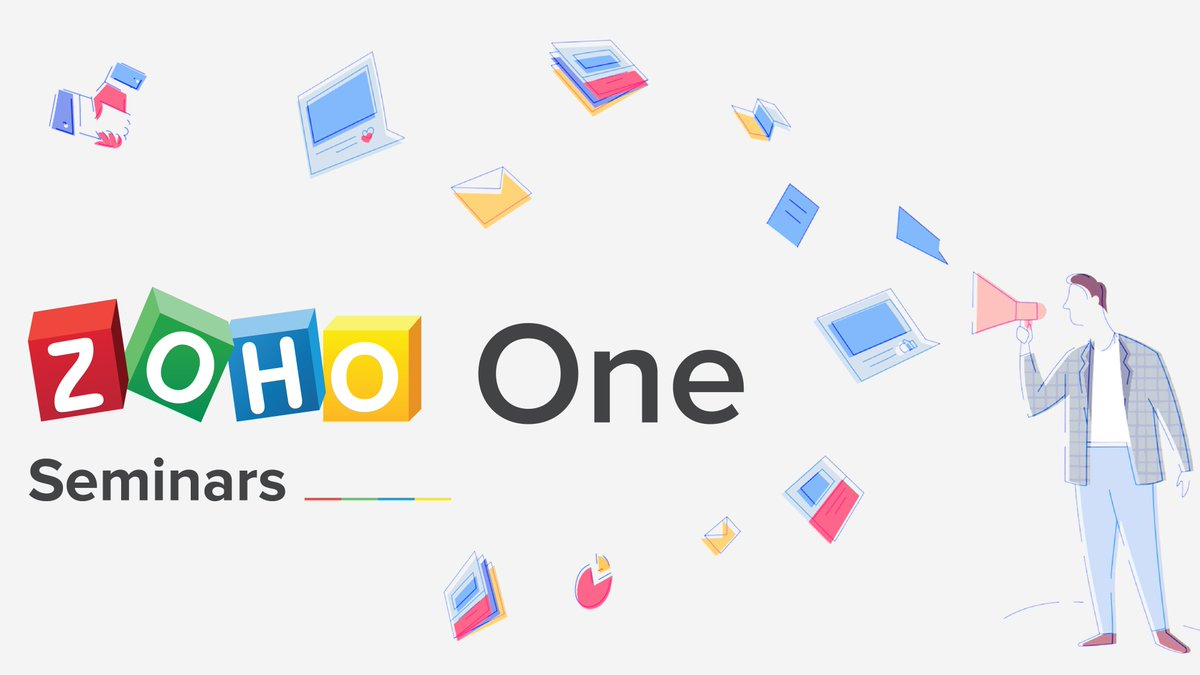zoho: (30, 286, 424, 420)
